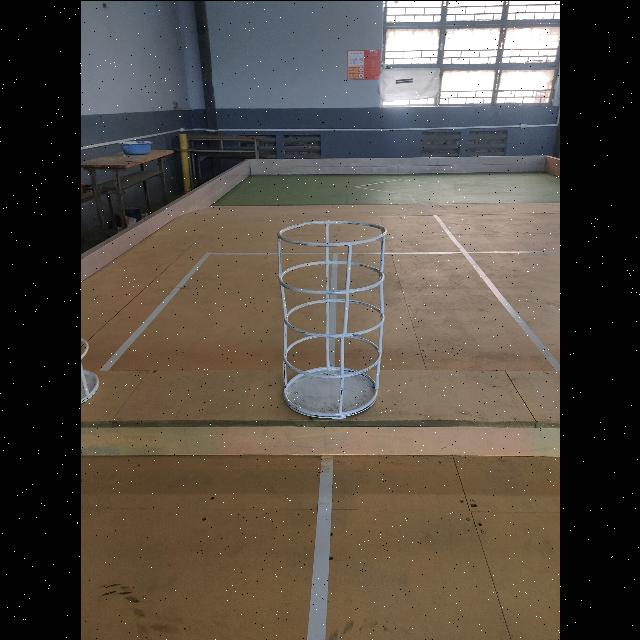S: (276, 221, 385, 422)
